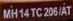character: (65, 5, 73, 16), (3, 8, 10, 19), (10, 8, 17, 18), (35, 7, 42, 17), (18, 7, 24, 18), (43, 6, 49, 17), (47, 6, 53, 16), (52, 6, 58, 16), (23, 8, 29, 17), (30, 7, 36, 16), (61, 6, 67, 15)
